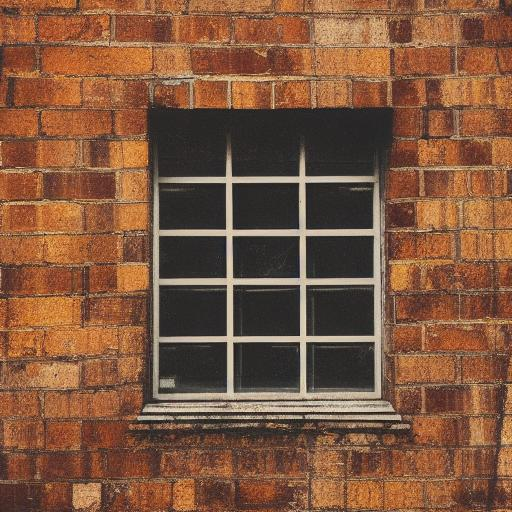Window: (133, 80, 413, 434)
